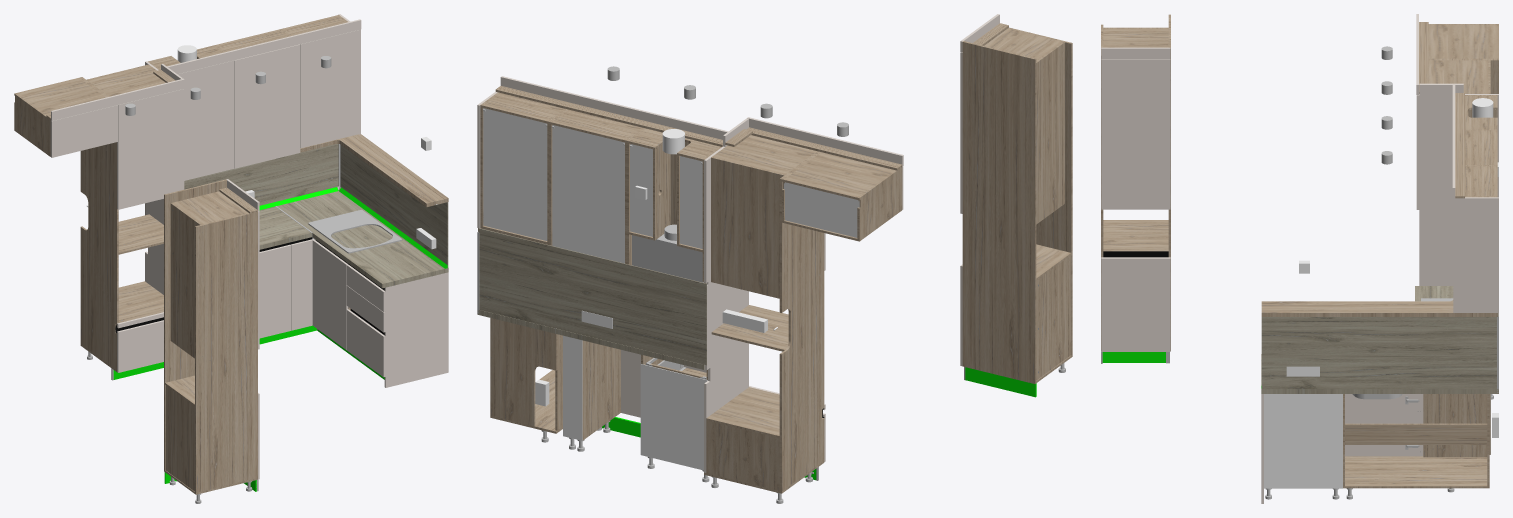
3 views of the same model, side by side, from view 1: azimuth 30°, elevation 25°; view 2: azimuth 150°, elevation 25°; view 3: azimuth 270°, elevation 25° (orthographic). The views are drawn at different scales.
Parts seen in each view (by area): view 1: node_0131, node_0071, node_0093, node_0076, node_0038, node_0116, node_0021, node_0094, node_0019, node_0018, node_0128, node_0118 (+26 smaller); view 2: node_0130, node_0018, node_0071, node_0088, node_0068, node_0110, node_0056, node_0028, node_0070, node_0128, node_0069, node_0129 (+27 smaller); view 3: node_0019, node_0136, node_0037, node_0070, node_0137, node_0117, node_0026, node_0029, node_0022, node_0112, node_0030, node_0083 (+20 smaller).
Boxes of the visible parts, x1,y1,x2,y2 form: node_0131: (195, 212, 257, 492); node_0071: (80, 77, 118, 369); node_0093: (234, 44, 300, 168); node_0076: (117, 89, 184, 209); node_0038: (384, 272, 448, 387); node_0116: (300, 30, 358, 148); node_0021: (277, 191, 448, 288); node_0094: (178, 60, 233, 180); node_0019: (340, 145, 448, 267); node_0018: (145, 144, 338, 214); node_0128: (170, 202, 201, 358); node_0118: (259, 244, 291, 338); node_0130: (962, 41, 1036, 383); node_0018: (478, 228, 706, 365); node_0071: (779, 151, 824, 491); node_0088: (552, 125, 624, 263); node_0068: (711, 156, 784, 298); node_0110: (483, 108, 547, 240); node_0056: (640, 364, 707, 470); node_0028: (490, 318, 557, 425); node_0070: (704, 146, 748, 472); node_0128: (1036, 42, 1064, 224); node_0069: (706, 420, 779, 490); node_0129: (1036, 255, 1070, 380); node_0019: (1261, 317, 1496, 389); node_0136: (1101, 59, 1170, 209); node_0037: (1264, 394, 1342, 488); node_0070: (1419, 94, 1498, 285); node_0137: (1101, 257, 1170, 351); node_0117: (1453, 197, 1498, 312); node_0026: (1343, 456, 1489, 488); node_0029: (1345, 423, 1487, 444); node_0022: (1423, 394, 1487, 457); node_0112: (1261, 300, 1497, 314); node_0030: (1345, 394, 1411, 456); node_0083: (1428, 25, 1498, 58).
Bounding box in the file's own units: 2.95 × 2.5 × 2.85.
20 materials, 5 textured.
